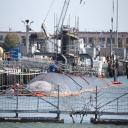submarine: (21, 29, 119, 96)
